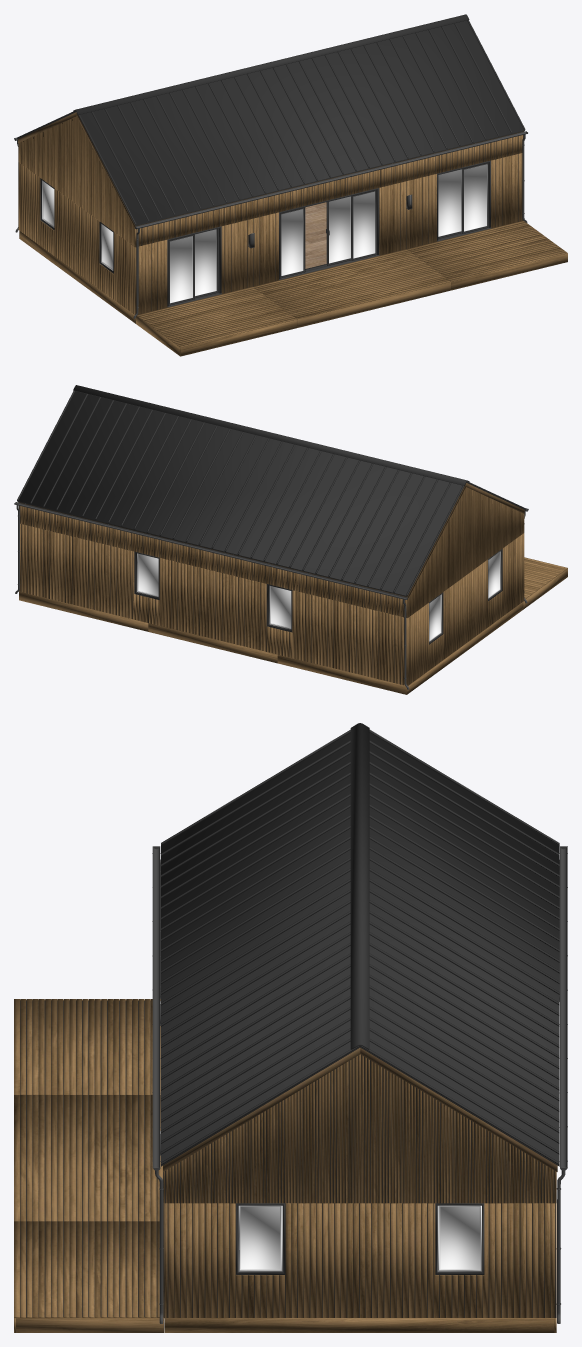
File: Cabin2_Baked.glb
3 renders of one model, top to bottom at view 1: azimuth 30°, elevation 25°; view 2: azimuth 150°, elevation 25°; view 3: azimuth 270°, elevation 25°, orthographic. The views are drawn at different scales.
Visible parts, largest first — view 1: Roof, Planks_outside, Platform, Glass, Platform.001, Frames, Base, Gutter, Floor, Roof.001; view 2: Roof, Planks_outside, Platform.001, Base, Glass, Gutter, Frames, Roof.001, Platform; view 3: Roof, Planks_outside, Platform, Base, Platform.001, Gutter, Glass, Roof.001, Frames.
Part boxes in pixels (<box>): Roof: <box>17,14,525,225</box>; Planks_outside: <box>18,116,523,314</box>; Platform: <box>137,220,567,347</box>; Glass: <box>42,164,487,303</box>; Platform.001: <box>19,231,567,356</box>; Frames: <box>40,160,491,307</box>; Base: <box>99,136,518,310</box>; Gutter: <box>14,131,527,318</box>; Floor: <box>305,202,326,268</box>; Roof.001: <box>18,112,523,228</box>; Roof: <box>17,385,525,596</box>; Planks_outside: <box>19,487,524,685</box>; Platform.001: <box>19,568,567,694</box>; Base: <box>19,506,502,684</box>; Glass: <box>137,551,500,641</box>; Gutter: <box>14,502,528,689</box>; Frames: <box>134,549,502,644</box>; Roof.001: <box>18,483,524,599</box>; Platform: <box>524,557,567,598</box>; Roof: <box>161,723,559,1166</box>; Planks_outside: <box>163,1054,556,1317</box>; Platform: <box>14,999,163,1317</box>; Base: <box>164,1055,555,1317</box>; Platform.001: <box>14,999,556,1332</box>; Gutter: <box>152,846,567,1323</box>; Glass: <box>238,1205,481,1271</box>; Roof.001: <box>163,1047,557,1171</box>; Frames: <box>163,1172,484,1291</box>.
Bounding box in the file's own units: 12.39 × 5.17 × 8.97.
Materials: 15 (8 with a texture image).
